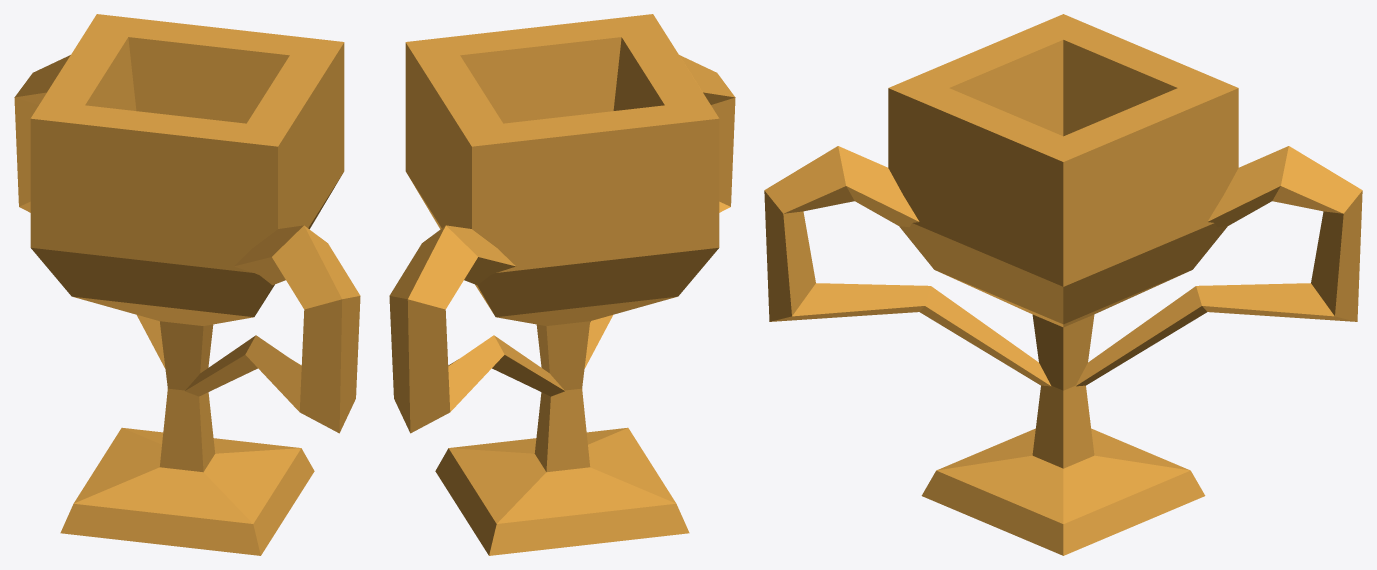
The model's file is trophy.fbx.
3 renders of one model, left to right at view 1: azimuth 30°, elevation 25°; view 2: azimuth 150°, elevation 25°; view 3: azimuth 270°, elevation 25°, orthographic. The views are drawn at different scales.
Visible parts, largest first — view 1: Plane; view 2: Plane; view 3: Plane.
Part boxes in pixels (x1,y1,x2,y2): Plane: [14, 14, 360, 555]; Plane: [389, 14, 735, 555]; Plane: [764, 14, 1362, 555].
Size of the model in its own units: 247 by 317 by 421.
